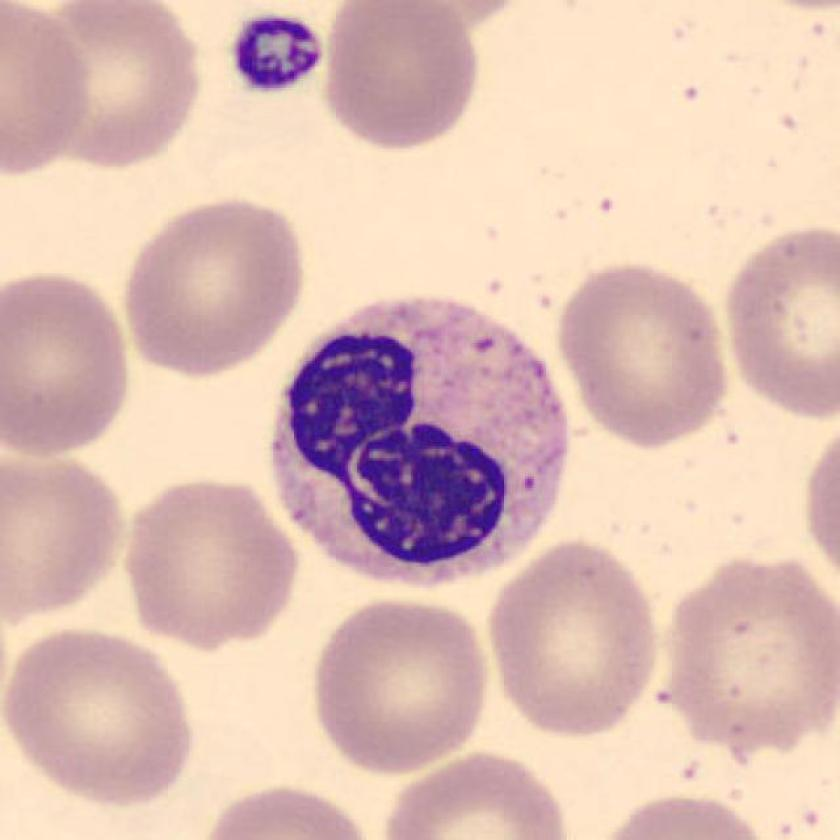neutrophil: (270, 294, 563, 589)
